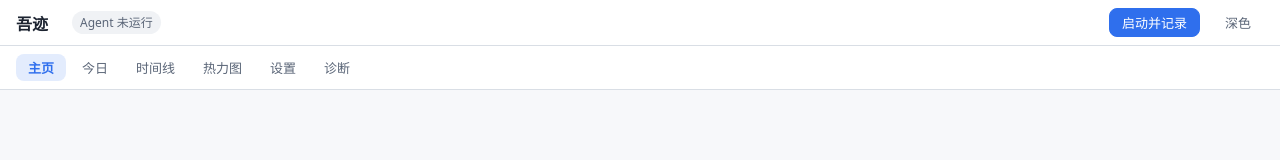
Test case: AppLayout 顶栏 › 手动重试后的新状态不被更早发出的迟到轮询覆盖
Click the button "启动并记录" at (1154, 22), box top-left (1109, 8), bottom-right (1200, 37)
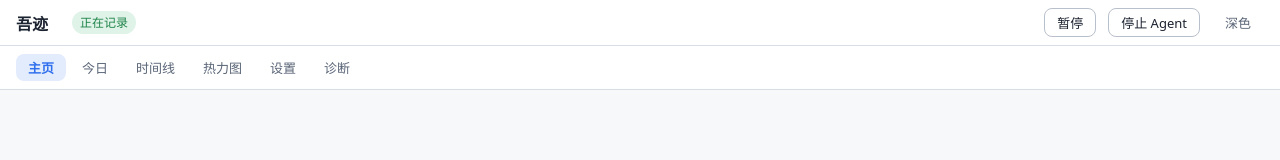
Result: the text with test id "capture-state-badge" reads "正在记录" at top-left (80, 14), bottom-right (128, 31)
